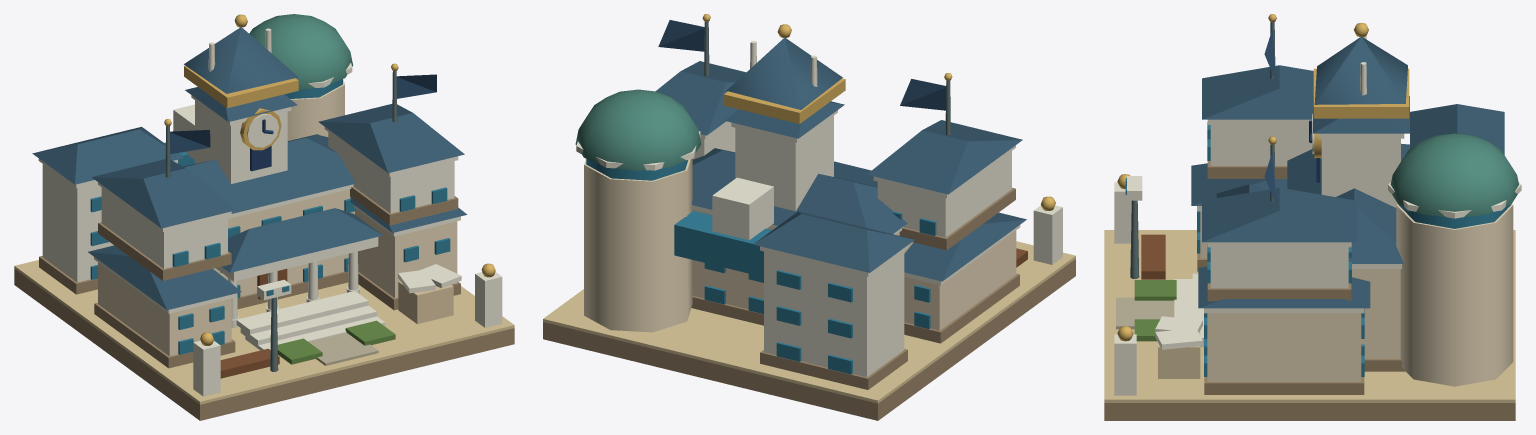
The model's file is university-lv5.glb.
3 renders of one model, left to right at view 1: azimuth 30°, elevation 25°; view 2: azimuth 150°, elevation 25°; view 3: azimuth 270°, elevation 25°, orthographic. The views are drawn at different scales.
Visible parts, largest first — view 1: foundation_sand, upper_academy_roof_roof, upper_academy_white, foundation_stoneDark, lecture_hall_roof_roof, research_hall_white, portico_pediment_roof, library_wing_cream, observatory_dome_copper, entrance_steps_white, research_hall_roof_roof, science_wing_cream (+35 smaller); view 2: observatory_cream, research_hall_white, foundation_sand, foundation_stoneDark, upper_academy_roof_roof, observatory_dome_copper, upper_academy_white, clock_tower_white, lecture_hall_roof_roof, research_hall_roof_roof, library_wing_cream, tower_cap_roof (+18 smaller); view 3: observatory_cream, foundation_sand, upper_academy_roof_roof, upper_academy_white, science_wing_cream, observatory_dome_copper, foundation_stoneDark, clock_tower_white, tower_cap_roof, lecture_hall_roof_roof, lecture_hall_cream, research_hall_roof_roof (+22 smaller).
Boxes of the visible parts, <box> form: foundation_sand: <box>14,260,514,404</box>; upper_academy_roof_roof: <box>91,104,464,228</box>; upper_academy_white: <box>98,127,458,268</box>; foundation_stoneDark: <box>14,269,514,420</box>; lecture_hall_roof_roof: <box>184,134,355,213</box>; research_hall_white: <box>38,158,177,282</box>; portico_pediment_roof: <box>222,208,383,272</box>; library_wing_cream: <box>98,262,231,356</box>; observatory_dome_copper: <box>249,14,353,89</box>; entrance_steps_white: <box>236,291,384,350</box>; research_hall_roof_roof: <box>32,126,183,184</box>; science_wing_cream: <box>355,209,457,298</box>; observatory_cream: <box>584,158,692,332</box>; research_hall_white: <box>760,245,908,376</box>; foundation_sand: <box>543,241,1075,403</box>; foundation_stoneDark: <box>543,259,1075,420</box>; upper_academy_roof_roof: <box>656,61,1022,194</box>; observatory_dome_copper: <box>575,89,701,170</box>; upper_academy_white: <box>692,121,1015,237</box>; clock_tower_white: <box>731,110,837,211</box>; lecture_hall_roof_roof: <box>691,148,907,234</box>; research_hall_roof_roof: <box>753,211,914,272</box>; library_wing_cream: <box>904,230,1016,330</box>; tower_cap_roof: <box>726,38,842,109</box>; observatory_cream: <box>1396,204,1513,386</box>; foundation_sand: <box>1104,230,1515,402</box>; upper_academy_roof_roof: <box>1202,65,1357,242</box>; upper_academy_white: <box>1207,119,1351,288</box>; science_wing_cream: <box>1207,313,1361,381</box>; observatory_dome_copper: <box>1390,133,1518,216</box>; foundation_stoneDark: <box>1104,403,1515,420</box>; clock_tower_white: <box>1318,133,1404,207</box>; tower_cap_roof: <box>1314,37,1407,104</box>; lecture_hall_roof_roof: <box>1287,143,1409,263</box>; lecture_hall_cream: <box>1352,269,1400,358</box>; research_hall_roof_roof: <box>1410,104,1504,154</box>.
Size of the model in its own units: 0.9633 by 0.8277 by 1.
